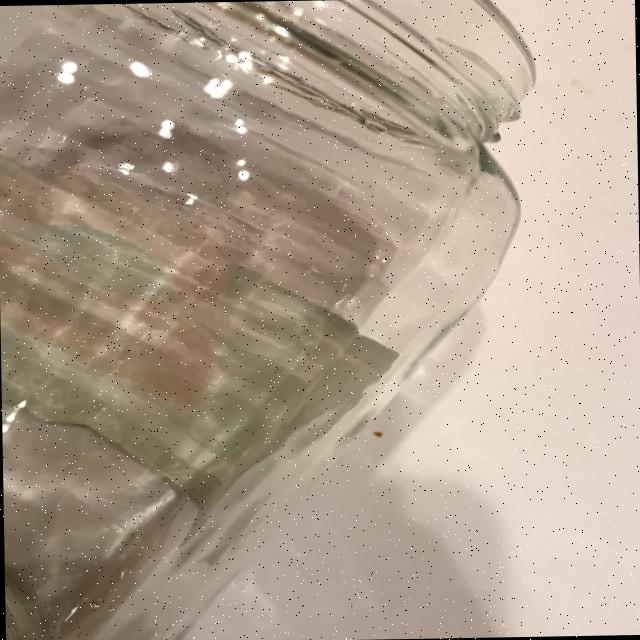glass: (0, 0, 546, 640)
